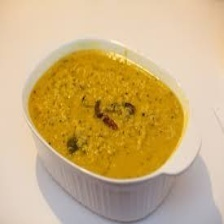dal: (29, 47, 185, 178)
